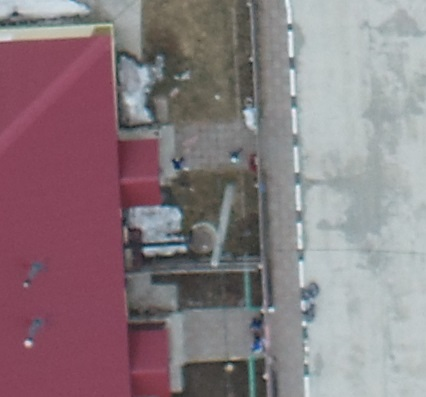opora: (204, 181, 244, 266)
